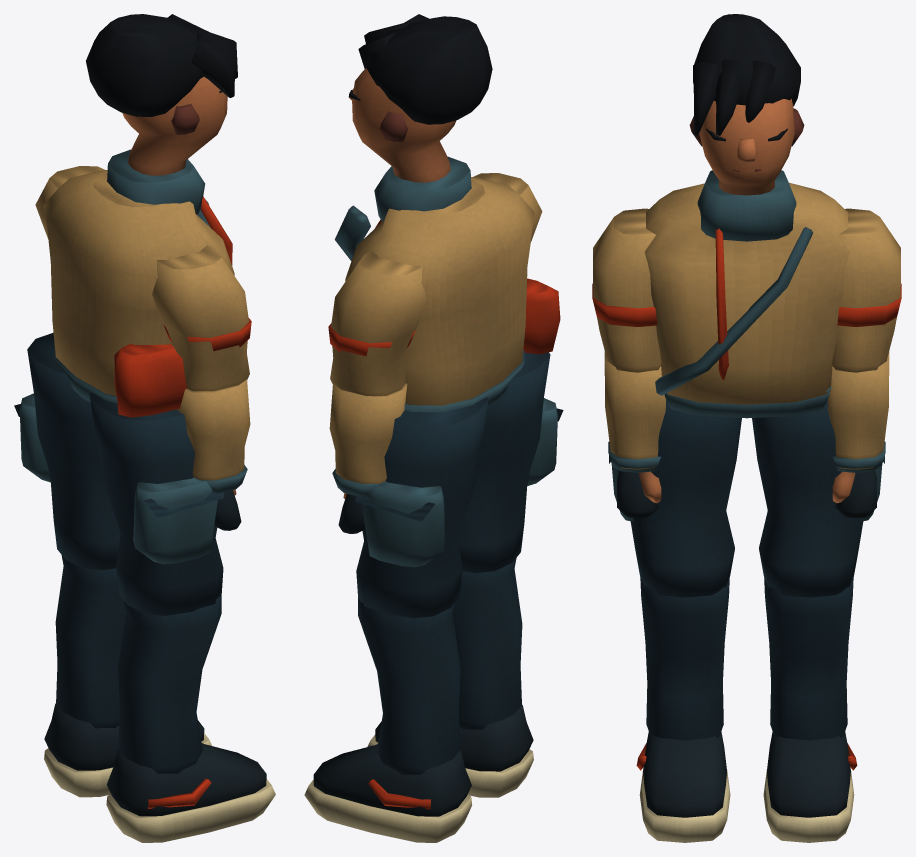
Rendered from courier.glb.
3 renders of one model, left to right at view 1: azimuth 30°, elevation 25°; view 2: azimuth 150°, elevation 25°; view 3: azimuth 270°, elevation 25°, orthographic.
Visible parts, largest first — view 1: Canvas jacket with waist and shoulders, Pleated cargo upper, Tapered creased cargo leg, Pleated cargo upper.001, Tapered creased cargo leg.001, Tailored upper sleeve, Swept fitted hair cap, Trainer heel and toe, Stitched cargo patch pocket, Forearm canvas, Neck and contoured face, Canvas ticket pouch (+16 smaller); view 2: Canvas jacket with waist and shoulders, Pleated cargo upper.001, Tapered creased cargo leg.001, Pleated cargo upper, Swept fitted hair cap, Tailored upper sleeve.001, Tapered creased cargo leg, Trainer heel and toe.001, Stitched cargo patch pocket.001, Forearm canvas.001, Neck and contoured face, Framed off-white sole.001 (+14 smaller); view 3: Canvas jacket with waist and shoulders, Pleated cargo upper, Pleated cargo upper.001, Tapered creased cargo leg.001, Tapered creased cargo leg, Tailored upper sleeve, Tailored upper sleeve.001, Trainer heel and toe.001, Trainer heel and toe, Neck and contoured face, Swept fitted hair cap, Forearm canvas.001 (+16 smaller).
Part boxes in pixels (x1=…): Canvas jacket with waist and shoulders: x1=43, y1=170, x2=234, y2=396; Pleated cargo upper: x1=89, y1=392, x2=223, y2=615; Tapered creased cargo leg: x1=118, y1=596, x2=221, y2=773; Pleated cargo upper.001: x1=27, y1=332, x2=120, y2=570; Tapered creased cargo leg.001: x1=55, y1=555, x2=125, y2=728; Tailored upper sleeve: x1=152, y1=245, x2=249, y2=391; Swept fitted hair cap: x1=86, y1=14, x2=203, y2=116; Trainer heel and toe: x1=106, y1=743, x2=266, y2=816; Stitched cargo patch pocket: x1=133, y1=478, x2=217, y2=564; Forearm canvas: x1=177, y1=379, x2=250, y2=480; Neck and contoured face: x1=122, y1=76, x2=227, y2=175; Canvas ticket pouch: x1=114, y1=344, x2=187, y2=417; Canvas jacket with waist and shoulders: x1=345, y1=177, x2=534, y2=405; Pleated cargo upper.001: x1=356, y1=397, x2=488, y2=618; Tapered creased cargo leg.001: x1=358, y1=598, x2=460, y2=774; Pleated cargo upper: x1=458, y1=352, x2=550, y2=572; Swept fitted hair cap: x1=364, y1=16, x2=492, y2=124; Tailored upper sleeve.001: x1=330, y1=251, x2=427, y2=396; Tapered creased cargo leg: x1=453, y1=558, x2=522, y2=729; Trainer heel and toe.001: x1=313, y1=744, x2=471, y2=816; Stitched cargo patch pocket.001: x1=362, y1=481, x2=445, y2=567; Forearm canvas.001: x1=329, y1=383, x2=407, y2=483; Neck and contoured face: x1=352, y1=68, x2=456, y2=182; Framed off-white sole.001: x1=304, y1=780, x2=471, y2=842; Canvas jacket with waist and shoulders: x1=644, y1=182, x2=849, y2=404; Pleated cargo upper: x1=630, y1=400, x2=741, y2=597; Pleated cargo upper.001: x1=752, y1=400, x2=863, y2=597; Tapered creased cargo leg.001: x1=764, y1=577, x2=853, y2=740; Tapered creased cargo leg: x1=640, y1=577, x2=729, y2=740; Tailored upper sleeve: x1=593, y1=208, x2=661, y2=372; Tailored upper sleeve.001: x1=832, y1=208, x2=900, y2=372; Trainer heel and toe.001: x1=767, y1=731, x2=850, y2=817; Trainer heel and toe: x1=643, y1=731, x2=726, y2=817; Neck and contoured face: x1=699, y1=98, x2=794, y2=195; Swept fitted hair cap: x1=693, y1=14, x2=800, y2=106; Forearm canvas.001: x1=827, y1=351, x2=889, y2=469.
Bounding box in the file's own units: 0.403 × 1.81 × 0.6543.
9 materials, 9 textured.
